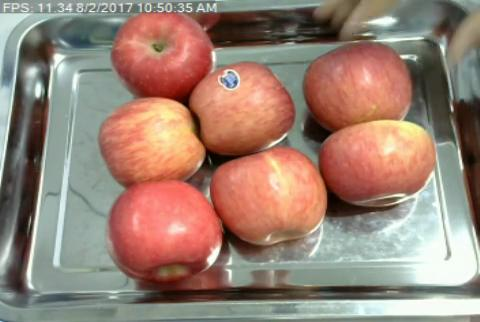apple: (105, 182, 220, 285), (213, 148, 326, 246), (320, 121, 437, 207), (191, 62, 296, 155), (99, 98, 204, 184), (304, 42, 411, 126), (110, 13, 214, 96)
